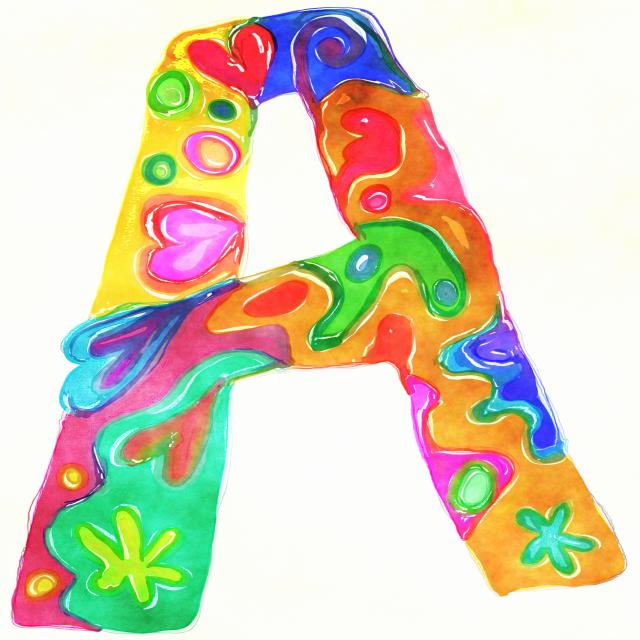A: (18, 16, 635, 630)
